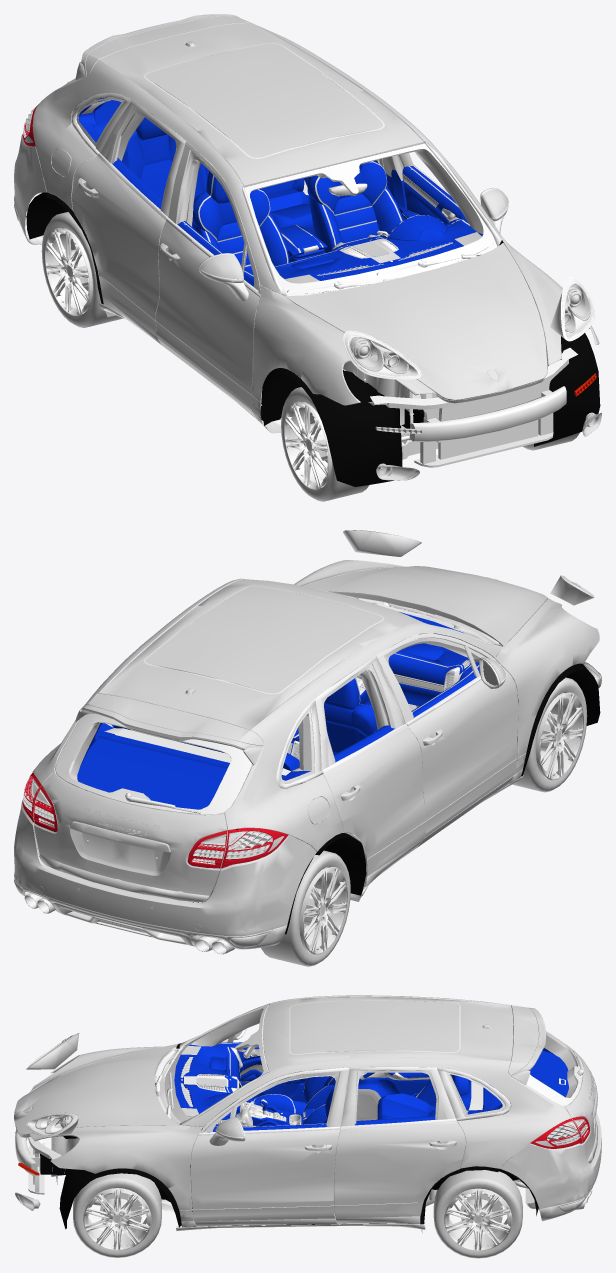
The model's file is cay23.glb.
The picture shows the model from 3 angles, top to bottom: view 1: azimuth 30°, elevation 25°; view 2: azimuth 150°, elevation 25°; view 3: azimuth 270°, elevation 25°; orthographic projection. The views are drawn at different scales.
Visible parts, largest first — view 1: caenka_body, caenka_hood, caenka_door_FR, caenka_door_RR, caenka_tubs, caenka_fender_R, caenka_dash, caenka_wheel_caenka_0_c (×2), caenka_seat_FL, caenka_seats_R, caenka_intcarpet, caenka_seat_FR (+15 smaller); view 2: caenka_body, caenka_tailgate, caenka_bumper_R_a, caenka_door_FR, caenka_door_RR, caenka_intcarpet, caenka_hood, caenka_fender_R, caenka_wheel_caenka_0_c (×2), caenka_tire_caenka_tire_0_c (×2), caenka_dash, caenka_seat_FR (+8 smaller); view 3: caenka_body, caenka_door_FL, caenka_door_RL, caenka_hood, caenka_fender_L, caenka_tire_caenka_tire_0_c (×2), caenka_wheel_caenka_0_c (×2), caenka_tailgate, caenka_dash, caenka_bumper_R_a, caenka_intcarpet, caenka_door_RR (+14 smaller).
Boxes of the visible parts, x1,y1,x2,y2 form: caenka_body: (32,22,502,433); caenka_hood: (285,243,547,400); caenka_door_FR: (155,141,260,415); caenka_door_RR: (71,100,186,344); caenka_tubs: (262,333,600,486); caenka_fender_R: (252,285,435,424); caenka_dash: (271,215,482,292); caenka_wheel_caenka_0_c (×2): (45,228,331,488); caenka_seat_FL: (307,161,403,252); caenka_seats_R: (122,117,314,235); caenka_intcarpet: (76,82,483,281); caenka_seat_FR: (192,171,289,270); caenka_body: (32,578,523,902); caenka_tailgate: (33,693,263,902); caenka_bumper_R_a: (14,800,316,949); caenka_door_FR: (376,633,518,847); caenka_door_RR: (315,656,427,886); caenka_intcarpet: (77,597,478,815); caenka_hood: (302,566,547,645); caenka_fender_R: (495,598,599,783); caenka_wheel_caenka_0_c (×2): (299,692,583,953); caenka_tire_caenka_tire_0_c (×2): (261,677,587,966); caenka_dash: (287,611,470,761); caenka_seat_FR: (324,678,377,754); caenka_body: (154,995,580,1232); caenka_door_FL: (190,1067,349,1226); caenka_door_RL: (334,1066,465,1223); caenka_hood: (14,1044,178,1135); caenka_fender_L: (29,1125,202,1227); caenka_tire_caenka_tire_0_c (×2): (73,1170,522,1258); caenka_wheel_caenka_0_c (×2): (84,1188,511,1250); caenka_tailgate: (508,1005,598,1163); caenka_dash: (174,1044,315,1126); caenka_bumper_R_a: (500,1112,601,1221); caenka_intcarpet: (190,1008,568,1120); caenka_door_RR: (356,1072,430,1120).
Bounding box in the file's own units: 2.15 × 1.69 × 4.74.
